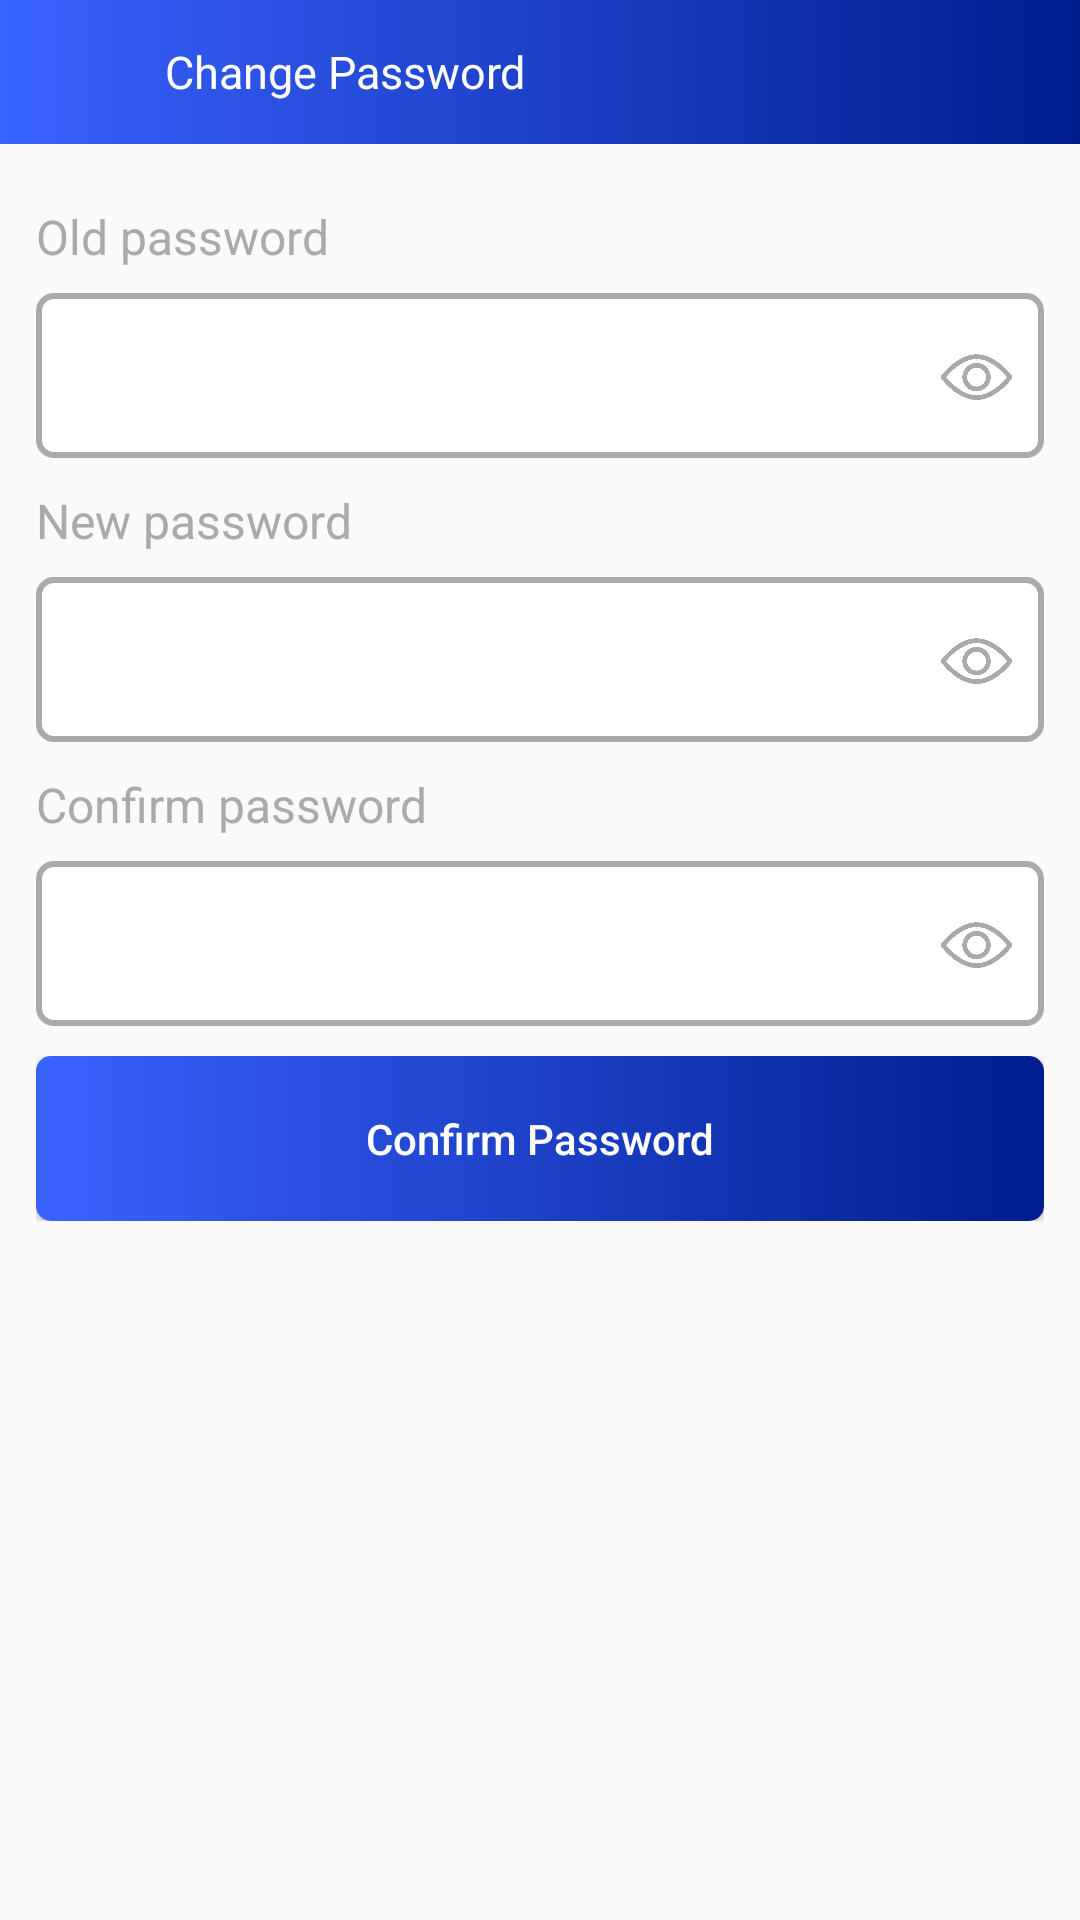

Named icons in this screenshot (1080px×1920px) and their bounding boxes, (x1, y1, x2, y2):
eye: (941, 354, 1012, 400), (941, 638, 1012, 684), (941, 922, 1012, 968)
